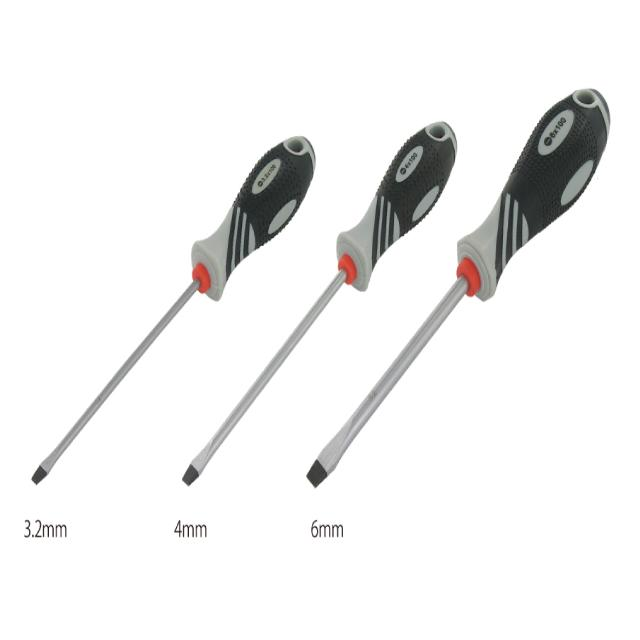Screwdriver: (308, 89, 610, 487), (182, 122, 456, 484), (31, 136, 315, 484)
